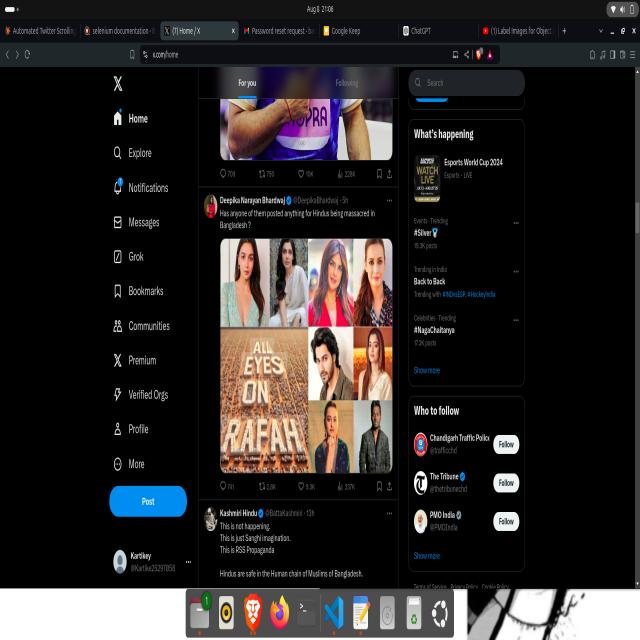Tweet-Comment_Box-: (192, 180, 405, 508)
